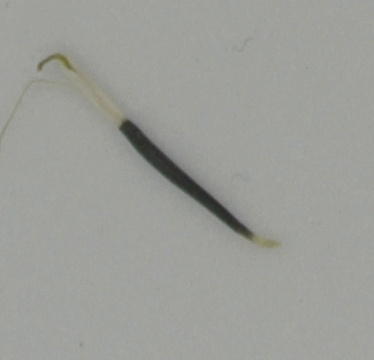เมล็ดดีเรียวยาว: (29, 54, 288, 251)
